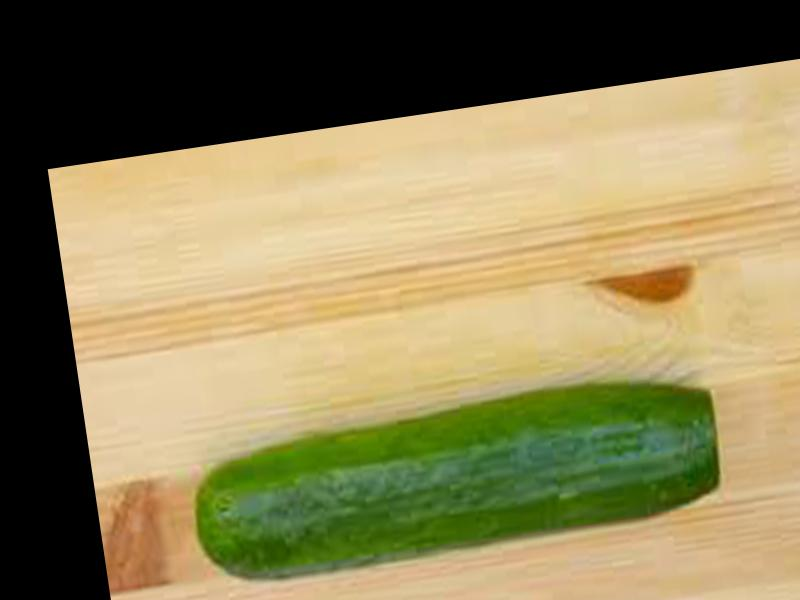Cucumber: (185, 371, 725, 589)
